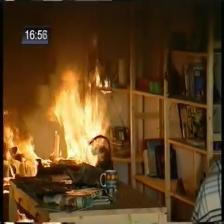fire: (5, 85, 107, 168)
